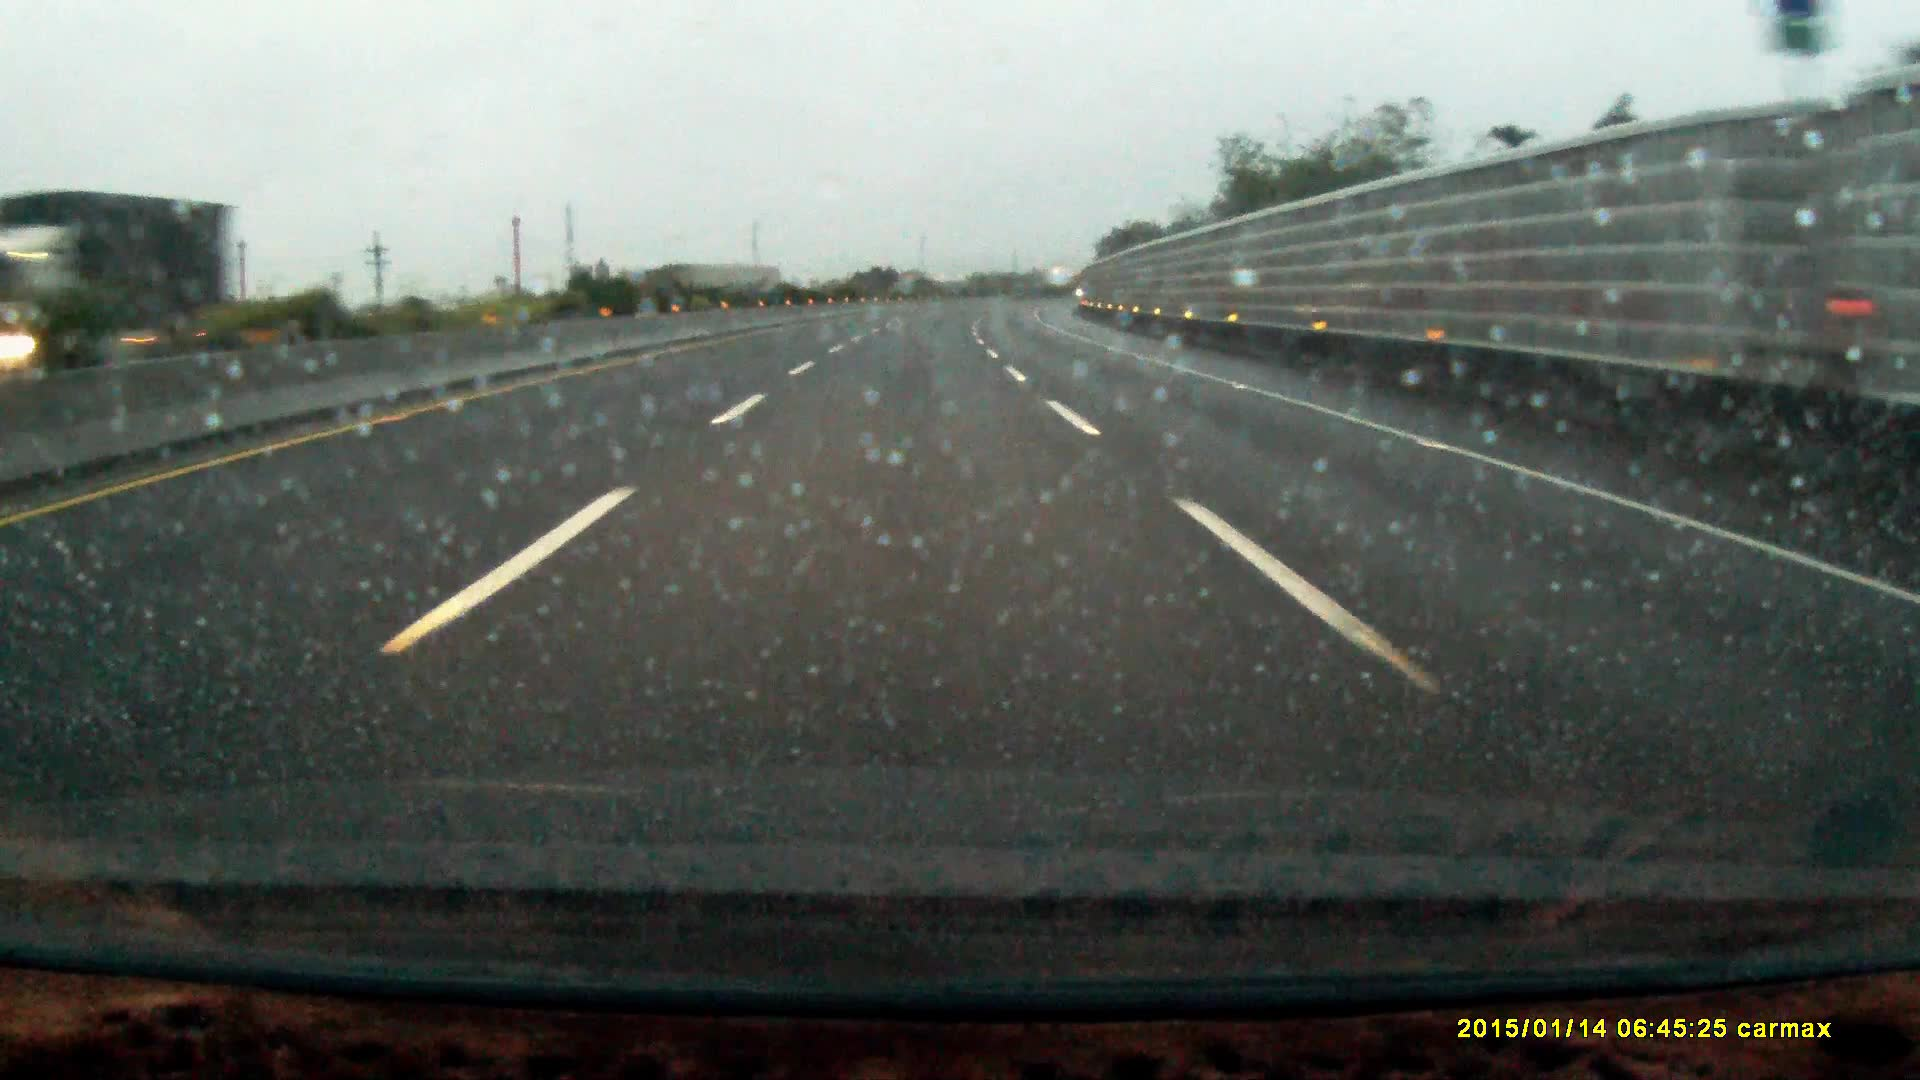vehicle: (1, 190, 237, 373)
